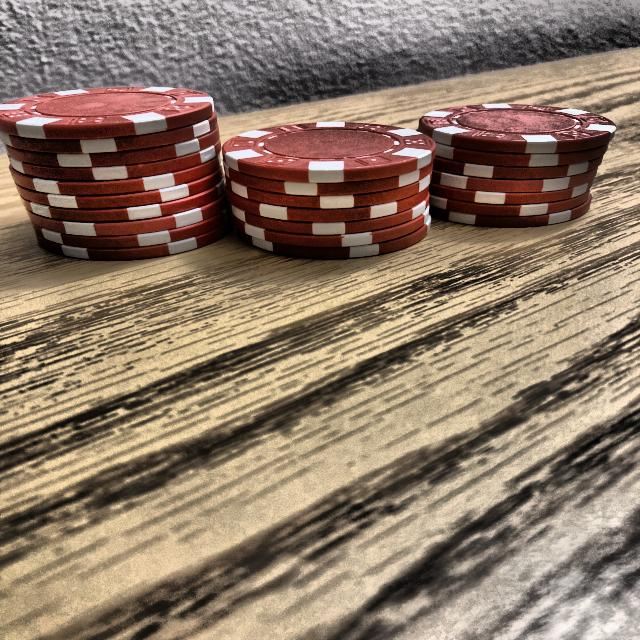Chip: (0, 56, 237, 284), (221, 106, 443, 274), (415, 77, 620, 249)
